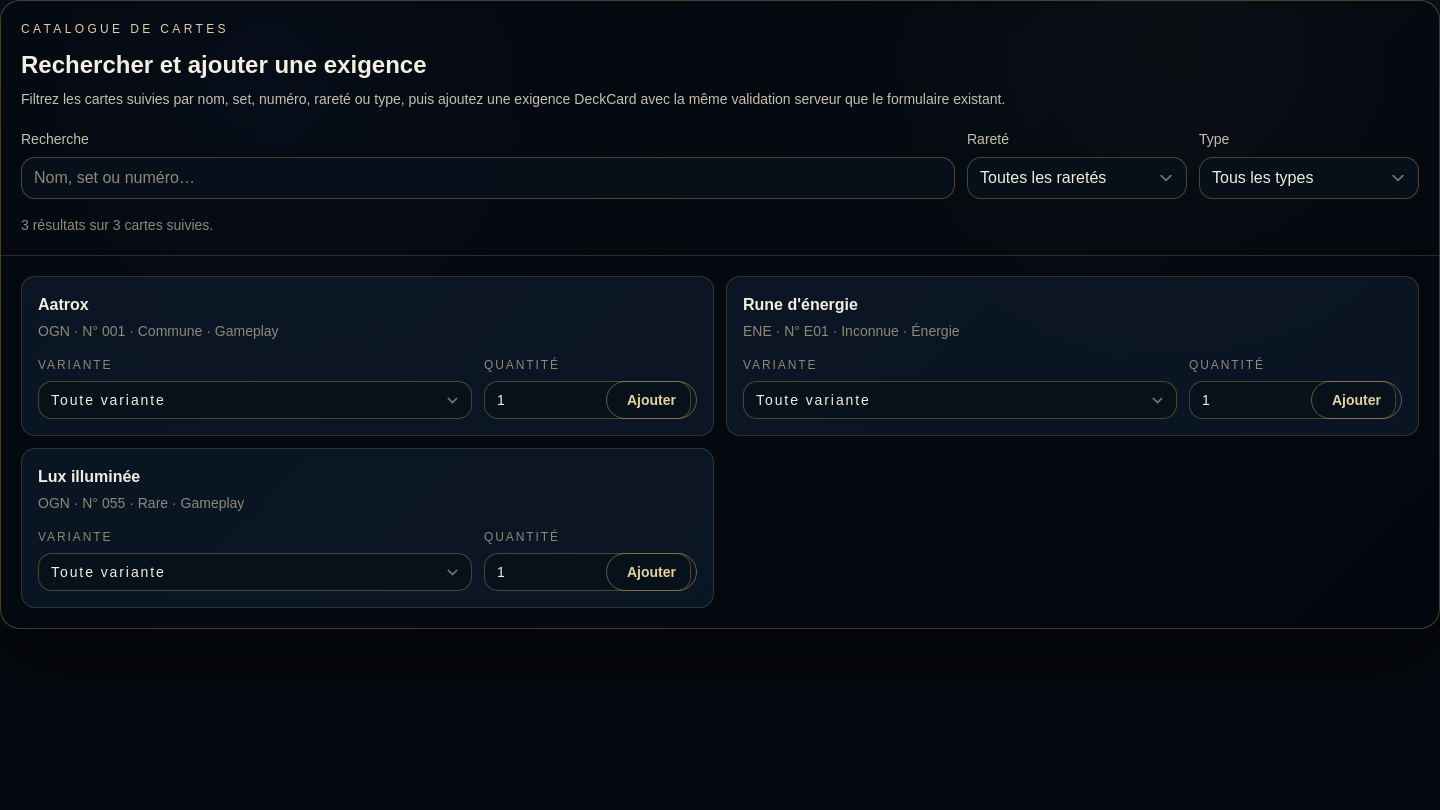
Scenario: DeckCardCatalog › filters catalog cards by set code and collector number
Type "ENE" into the search field labelled "Recherche" at [488, 178], box [21,157,955,199]
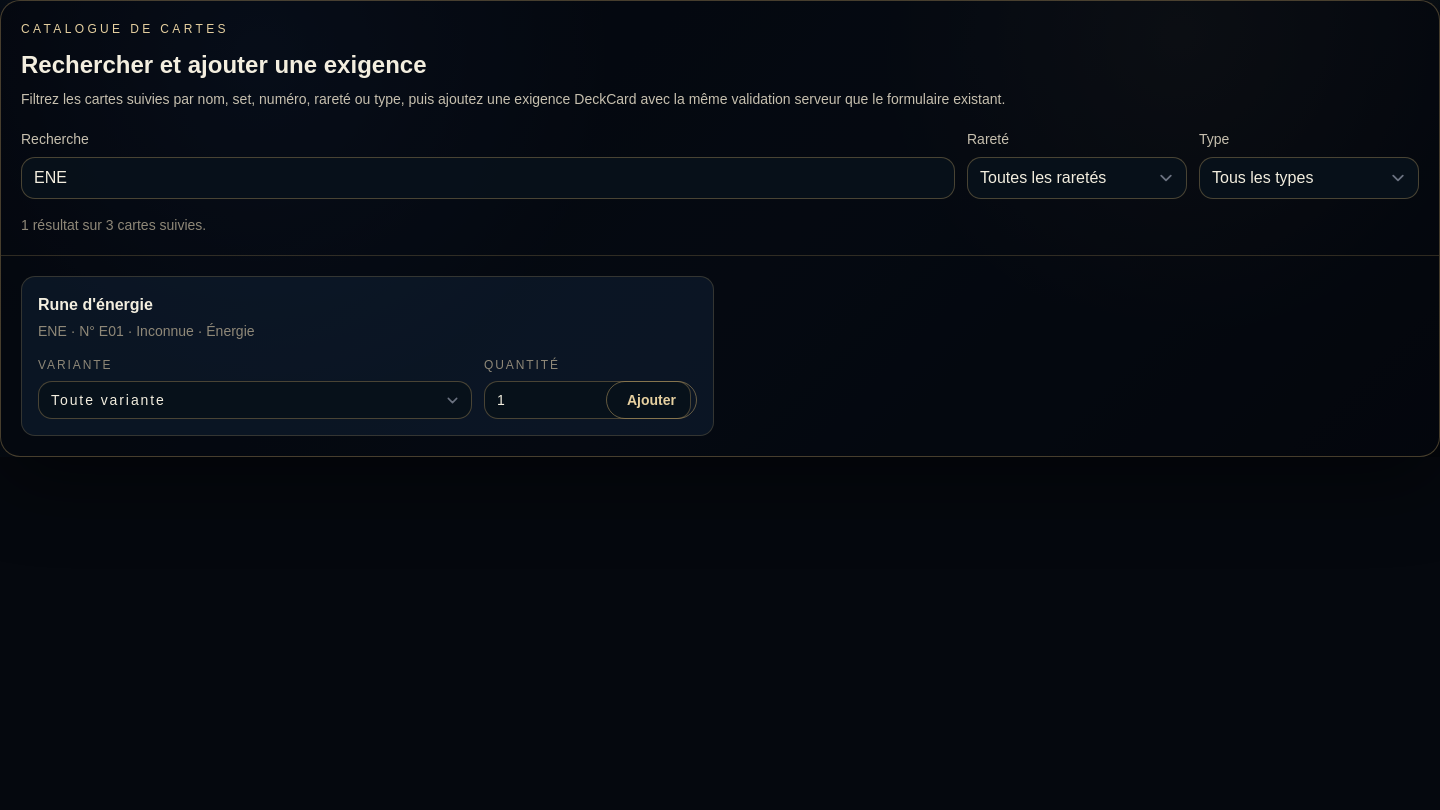
Expected: the text "Rune d'énergie" is shown, [38,296,153,313]
Expected: the text "Aatrox" is gone
Replace the text in the search field labelled "Recherche" with "055" at [488, 178], box [21,157,955,199]
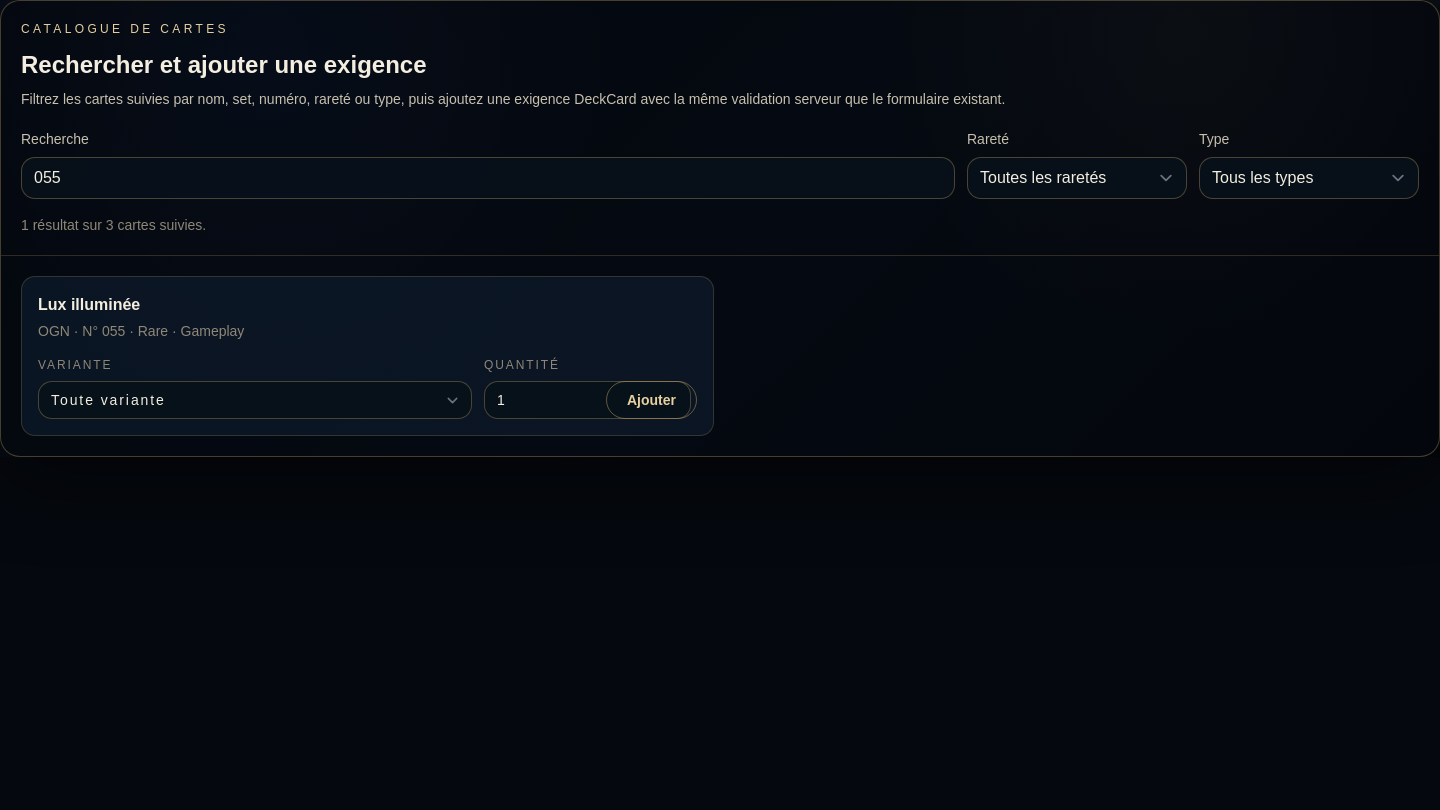
Expected: the text "Lux illuminée" is shown, [38,296,140,313]
Expected: the text "Rune d'énergie" is gone
